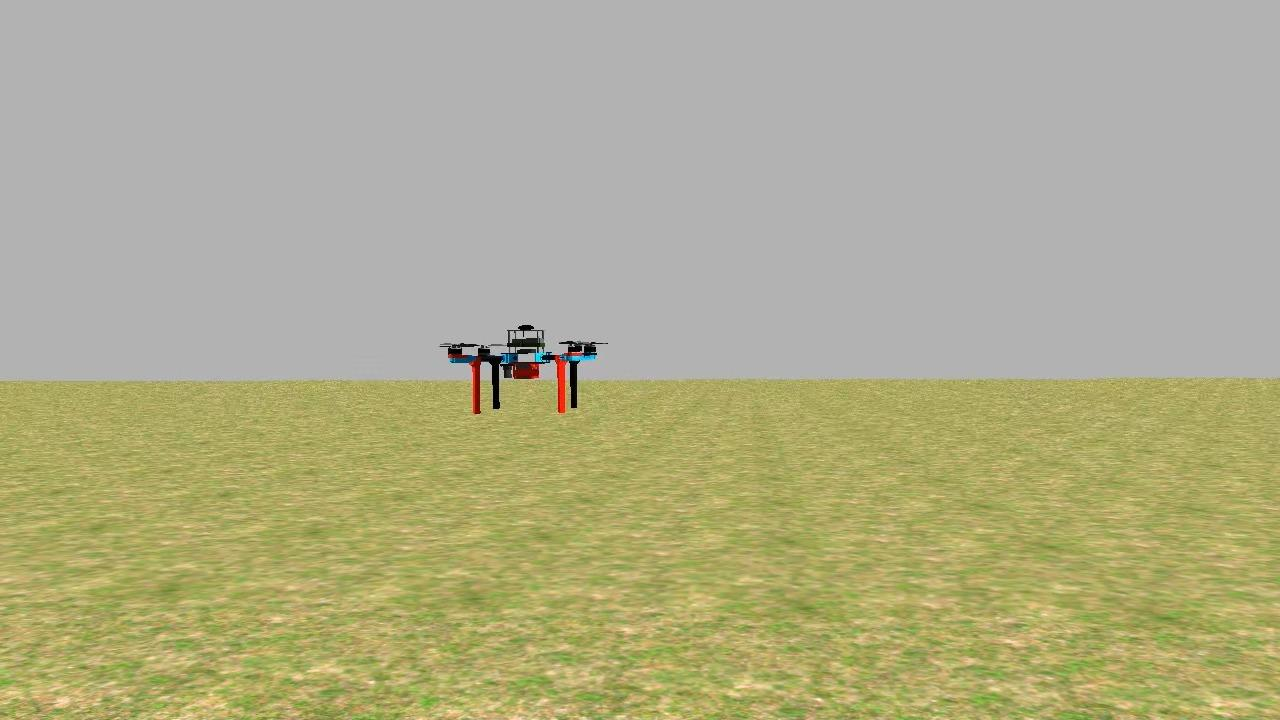UAV: (441, 310, 609, 425)
